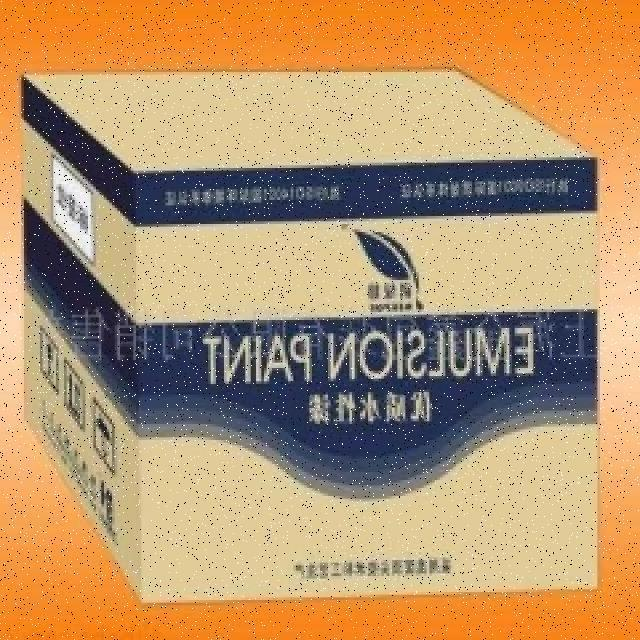box: (0, 56, 616, 603)
